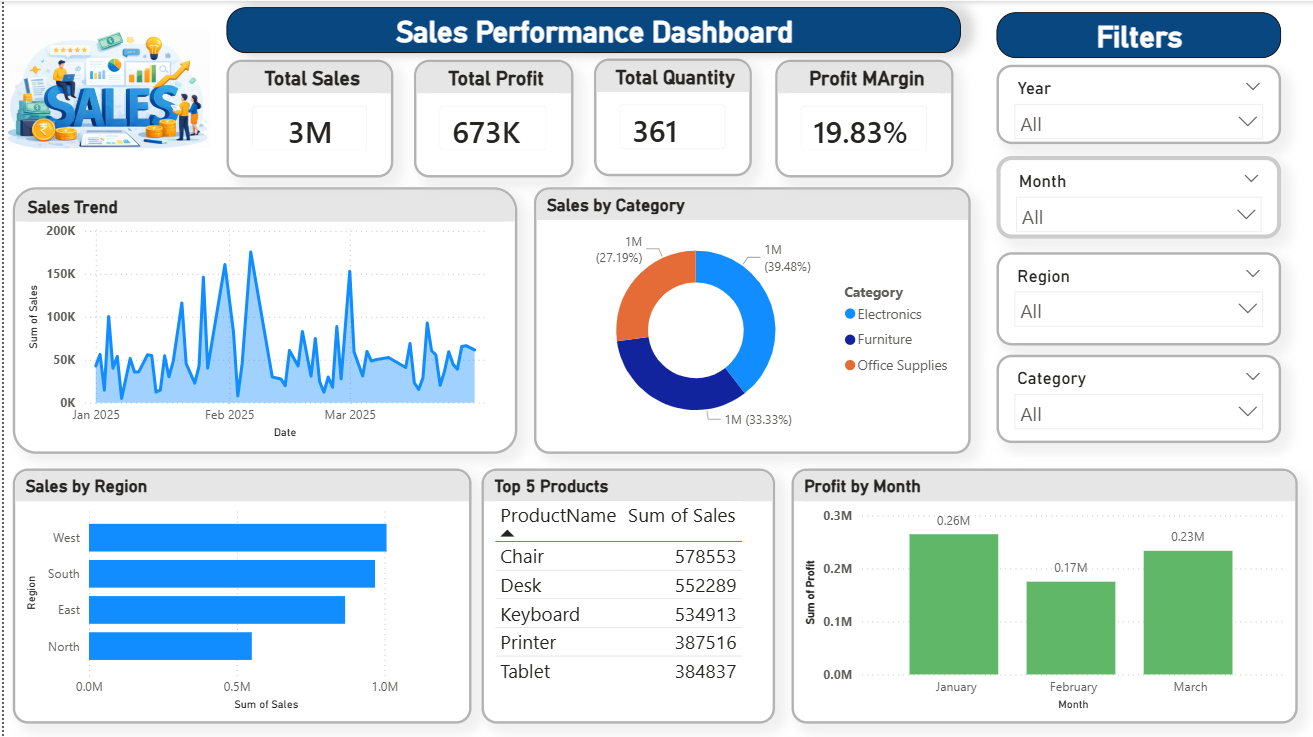

What the dashboard file says about the page in this screenshot:
{"tool":"powerbi","page":{"name":"Page 1","canvas":[1280,720],"ordinal":0},"visuals":[{"type":"lineChart","title":"Sales Trend","fields":{"Y":["Sum(Sales.Sales)"],"Category":["Sales.Date.Variation.Date Hierarchy.Month"]},"box":[8.7,181.8,493.4,261.1],"z":0},{"type":"barChart","title":"Sales by Region","fields":{"Category":["Customer.Region"],"Y":["Sum(Sales.Sales)"]},"box":[8.7,457.4,448.7,249.6],"z":1000},{"type":"donutChart","title":"Sales by Category","fields":{"Category":["Product.Category"],"Y":["Sum(Sales.Sales)"]},"box":[518,181.8,427.1,261.1],"z":2000},{"type":"slicer","fields":{"Values":["Date.Year"]},"box":[971,62,278.5,77.9],"z":3000},{"type":"slicer","fields":{"Values":["Date.Date.Variation.Date Hierarchy.Month"]},"box":[971,151.5,278.5,80.8],"z":4000},{"type":"slicer","fields":{"Values":["Customer.Region"]},"box":[971,245.3,278.5,90.9],"z":5000},{"type":"slicer","fields":{"Values":["Product.Category"]},"box":[971,346.3,278.5,86.6],"z":6000},{"type":"tableEx","title":"Top 5 Products","fields":{"Values":["Product.ProductName","Sum(Sales.Sales)"]},"box":[467.1,457.3,287.4,249.5],"z":7000},{"type":"columnChart","title":"Profit by Month","fields":{"Category":["Date.Date.Variation.Date Hierarchy.Month"],"Y":["Sum(Sales.Profit)"]},"box":[770.4,457.3,495.2,249.5],"z":8000},{"type":"cardVisual","title":"Total Sales","fields":{"Data":["Sales.Total Sales"]},"box":[217.9,57.7,163,115.4],"z":9000},{"type":"cardVisual","title":"Total Profit","fields":{"Data":["Sales.Total Profit"]},"box":[401.1,57.7,155.8,115.4],"z":10000},{"type":"cardVisual","title":"Total Quantity","fields":{"Data":["Sales.Total Quantity"]},"box":[577.1,56.3,154.4,115.4],"z":11000},{"type":"cardVisual","title":"Profit MArgin","fields":{"Data":["Sales.Profit Margin"]},"box":[754.6,57.7,174.6,115.4],"z":12000},{"type":"shape","title":"Filters","box":[971,11.5,278.5,44.7],"z":13000},{"type":"shape","title":"Sales Performance Dashboard","box":[217.9,5.8,718.5,44.7],"z":14000},{"type":"image","box":[0,0,202,171.7],"z":15000}]}

Visuals, with their boxes in screenshot pixels (x1, y1, x2, y2), scaled from the page's 1280x720 canvas onto the 1313x737 screenshot:
"Sales Trend" lineChart: 9/186/515/453
"Sales by Region" barChart: 9/468/469/724
"Sales by Category" donutChart: 531/186/969/453
slicer - Date.Year: 996/63/1282/143
slicer - Date.Date.Variation.Date Hierarchy.Month: 996/155/1282/238
slicer - Customer.Region: 996/251/1282/344
slicer - Product.Category: 996/354/1282/443
"Top 5 Products" tableEx: 479/468/774/723
"Profit by Month" columnChart: 790/468/1298/723
"Total Sales" cardVisual: 224/59/391/177
"Total Profit" cardVisual: 411/59/571/177
"Total Quantity" cardVisual: 592/58/750/176
"Profit MArgin" cardVisual: 774/59/953/177
"Filters" shape: 996/12/1282/58
"Sales Performance Dashboard" shape: 224/6/961/52
image: 0/0/207/176
